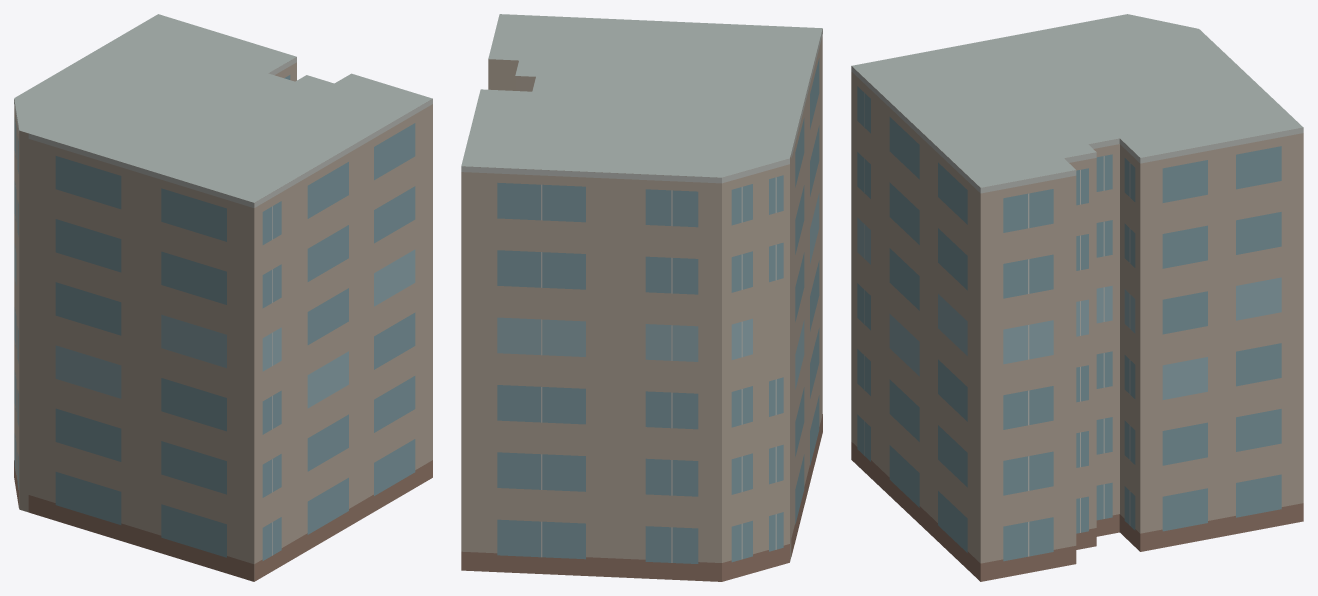
File: survey-upis-32736623.glb
3 renders of one model, left to right at view 1: azimuth 30°, elevation 25°; view 2: azimuth 150°, elevation 25°; view 3: azimuth 270°, elevation 25°, orthographic. The views are drawn at different scales.
Parts seen in each view (by area): view 1: survey-upis-32736623.tmp; view 2: survey-upis-32736623.tmp; view 3: survey-upis-32736623.tmp.
Boxes of the visible parts, x1,y1,x2,y2 form: survey-upis-32736623.tmp: (14, 14, 432, 581); survey-upis-32736623.tmp: (461, 14, 822, 581); survey-upis-32736623.tmp: (851, 14, 1303, 581).
Bounding box in the file's own units: 16.2 × 17.1 × 17.79.
